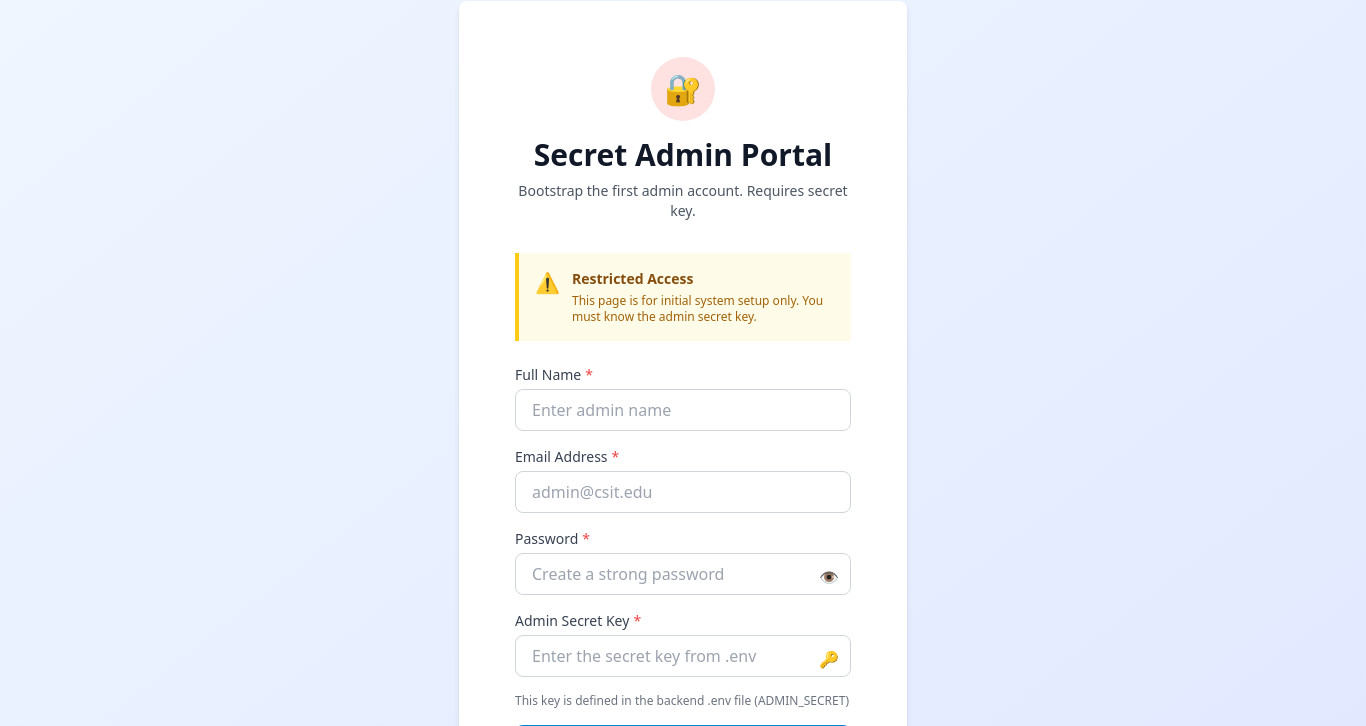
Test: RegisterAdmin › shows a validation error for a short password
Type "Admin User" into the field labelled "Full Name*" at (683, 410), box [515,389,851,431]
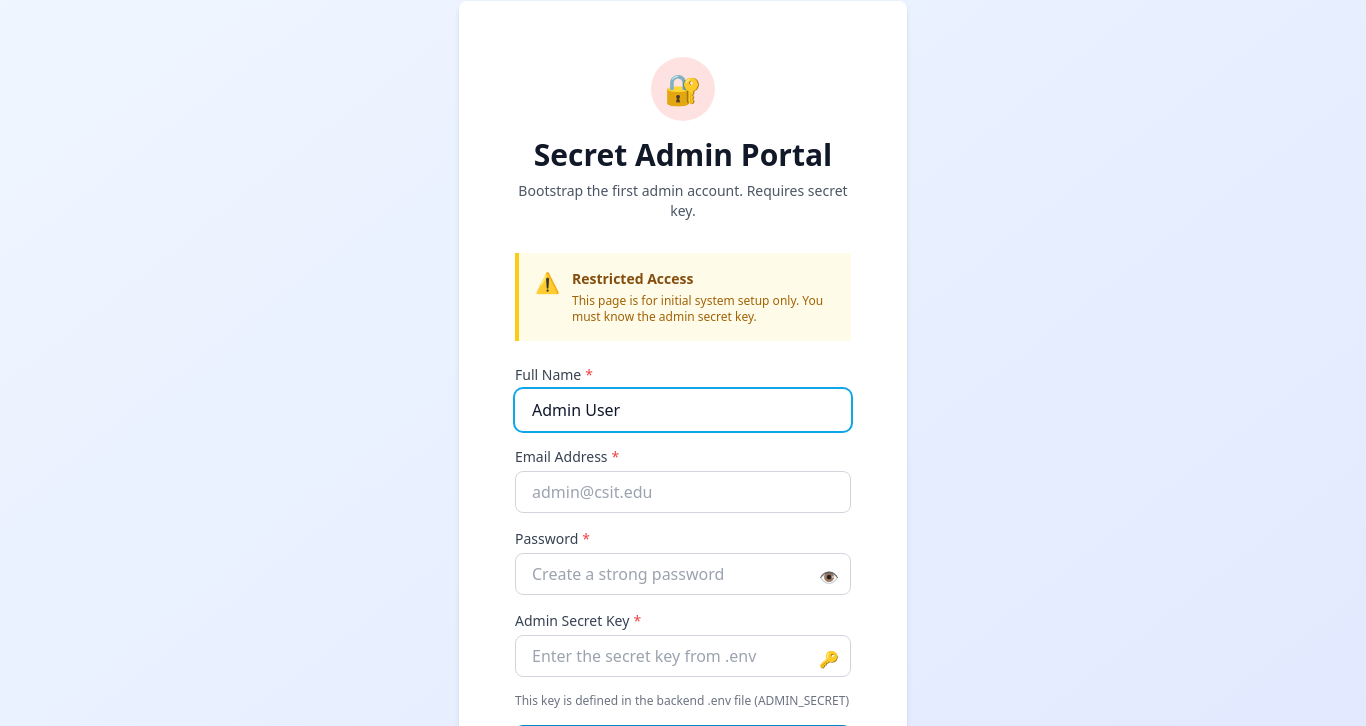
Type "admin@example.com" into the field labelled "Email Address*" at (683, 492), box [515,471,851,513]
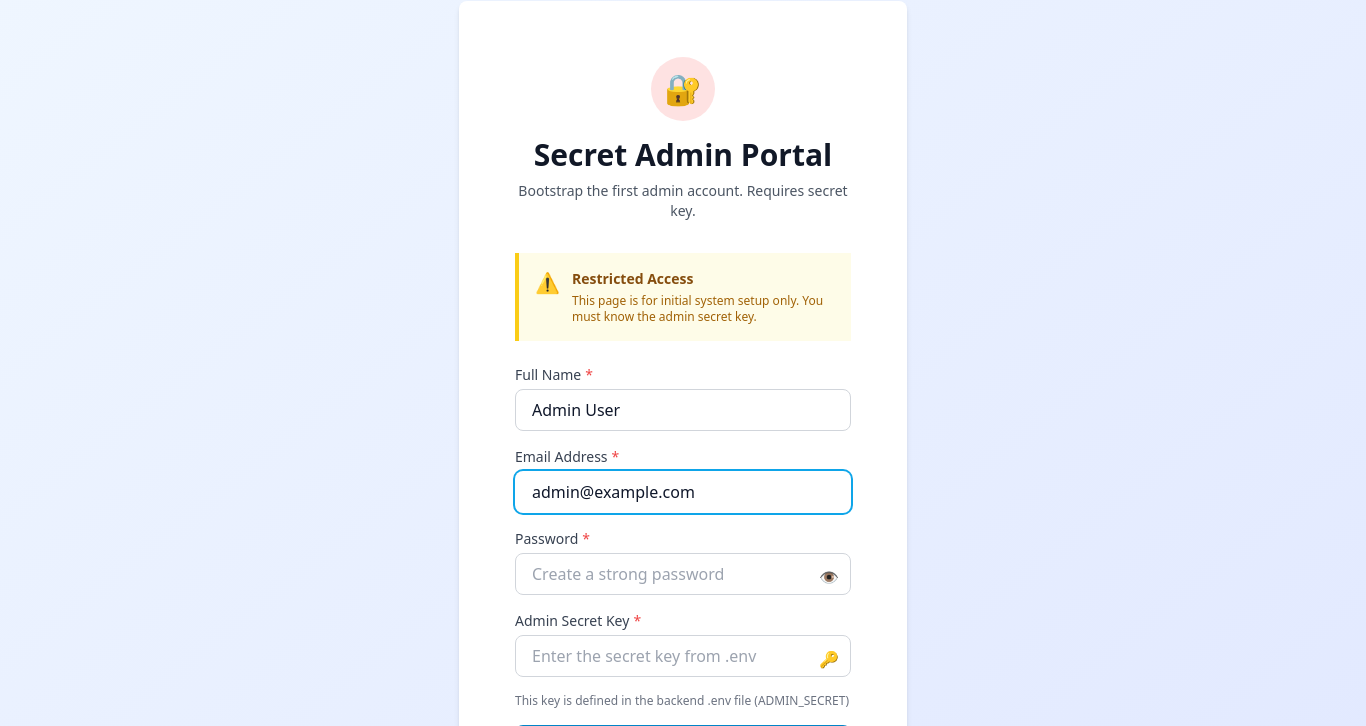
Type "12345" into the password field labelled "Password*" at (683, 574), box [515,553,851,595]
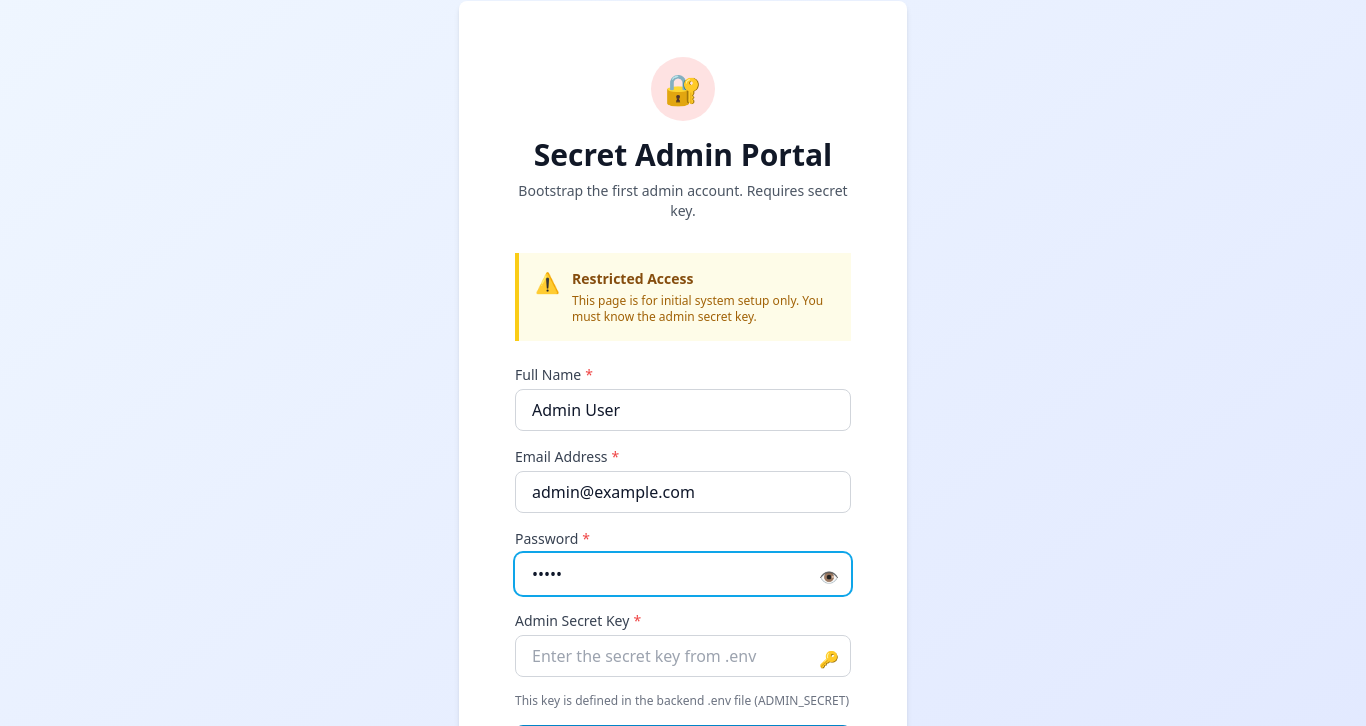
Type "SECRET123" into the password field labelled "Admin Secret Key*" at (683, 656), box [515,635,851,677]
(page scrolled)
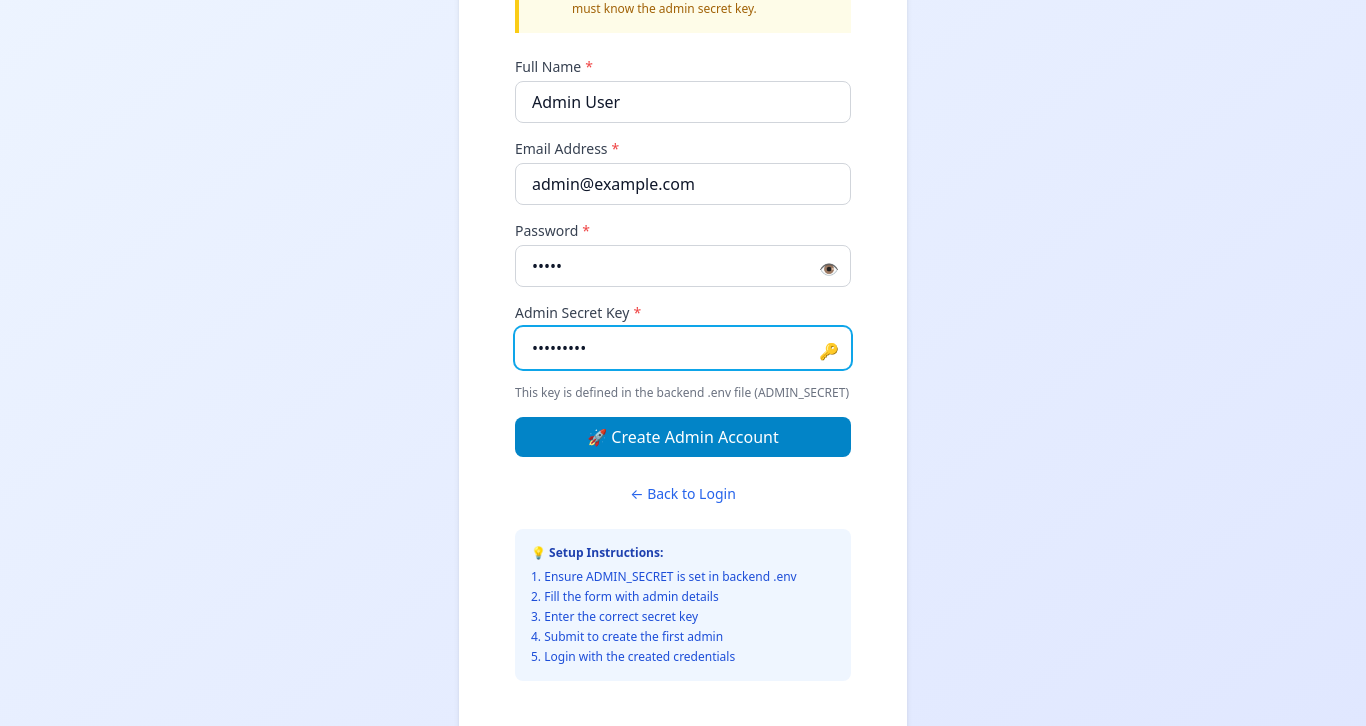
Click the button "🚀 Create Admin Account" at (683, 437), box [515,417,851,457]
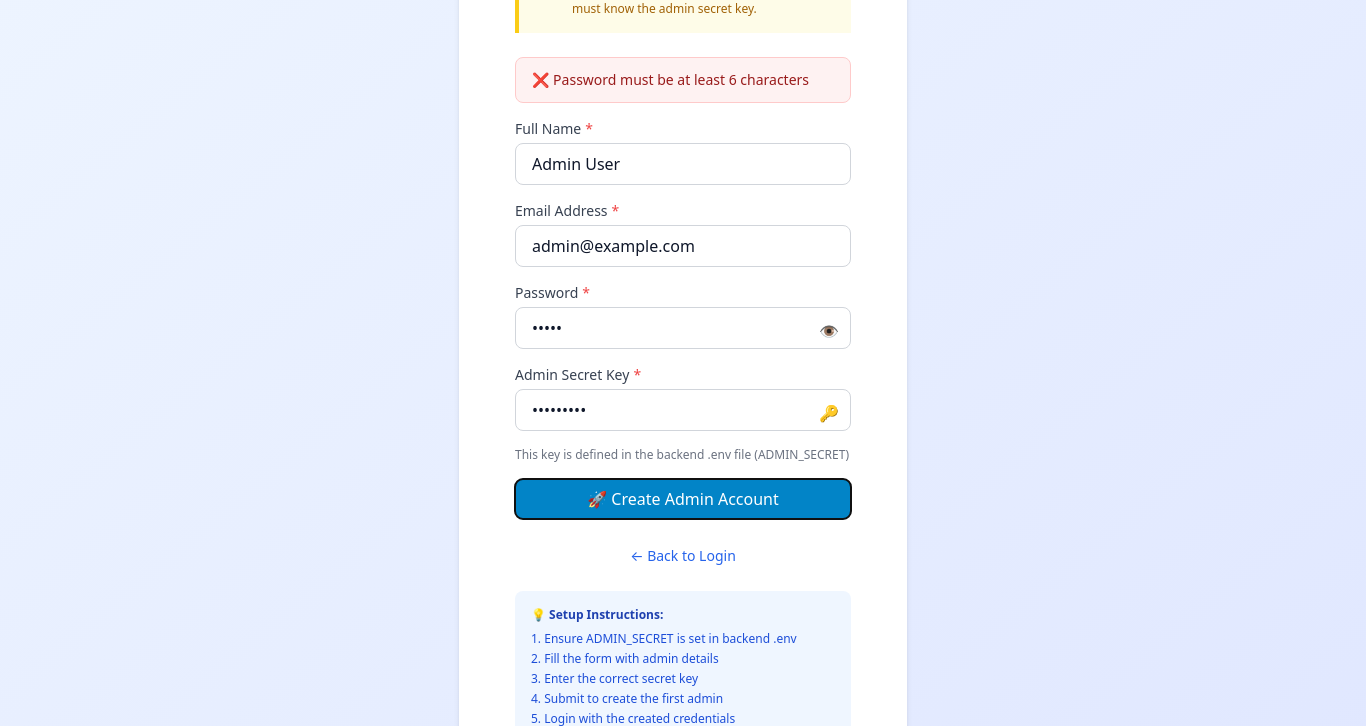
Now the text "❌ Password must be at least 6 characters" is shown, box [532,70,834,90]
